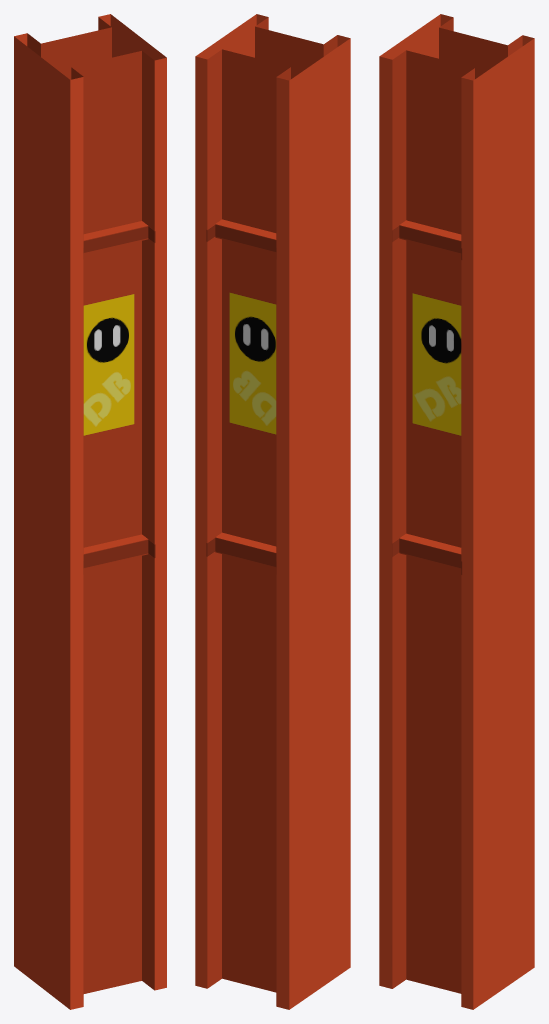
File: _Subway Beam.fbx
3 views of the same model, side by side, from view 1: azimuth 30°, elevation 25°; view 2: azimuth 150°, elevation 25°; view 3: azimuth 330°, elevation 25° (orthographic).
Visible parts, largest first — view 1: SubwayColumns:pCube1; view 2: SubwayColumns:pCube1; view 3: SubwayColumns:pCube1.
Part boxes in pixels (left/top/right/bottom): SubwayColumns:pCube1: left=14, top=14, right=166, bottom=1009; SubwayColumns:pCube1: left=195, top=14, right=350, bottom=1009; SubwayColumns:pCube1: left=379, top=14, right=534, bottom=1009.
Size of the model in its own units: 169 by 1535 by 180.
1 material, 1 textured.
